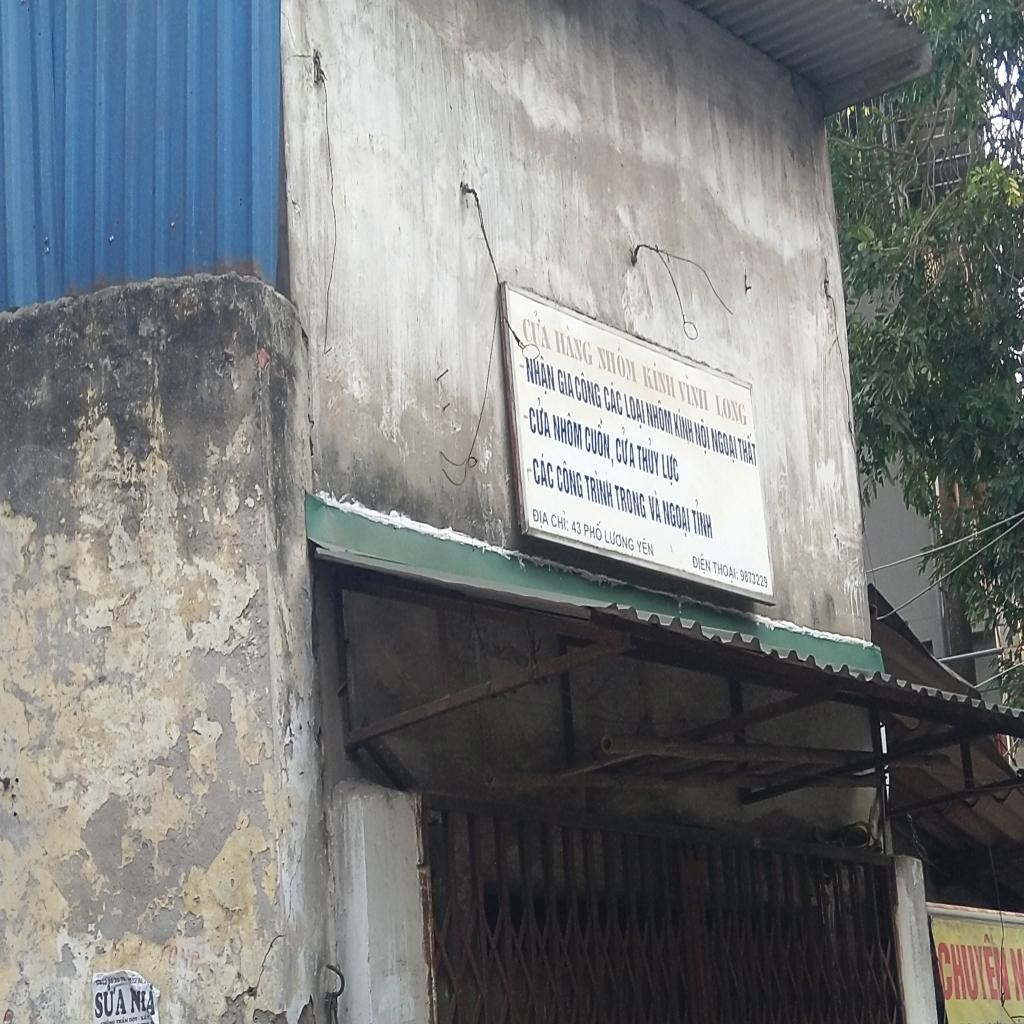text: (934, 931, 1014, 1004), (595, 340, 640, 387), (552, 321, 594, 367), (640, 357, 678, 402), (583, 412, 612, 470), (520, 305, 553, 353), (523, 352, 556, 399), (676, 371, 711, 415), (550, 407, 583, 452), (612, 481, 648, 522), (660, 496, 692, 540), (712, 391, 749, 429), (92, 982, 128, 1020), (554, 458, 585, 501), (573, 368, 603, 412), (644, 394, 674, 438), (584, 468, 614, 512), (710, 424, 740, 466), (526, 395, 553, 441), (688, 496, 715, 542), (635, 434, 661, 481), (614, 424, 636, 472), (530, 451, 555, 492), (672, 405, 696, 447), (129, 982, 157, 1018), (622, 391, 646, 432), (1008, 946, 1024, 1006), (601, 378, 624, 418), (736, 429, 758, 469), (603, 527, 635, 554), (660, 449, 680, 491), (712, 558, 740, 586), (693, 415, 712, 456), (556, 366, 576, 402), (739, 566, 769, 590), (646, 488, 664, 526), (690, 549, 712, 577), (530, 506, 552, 532), (549, 508, 570, 534), (582, 516, 602, 543), (635, 535, 655, 560), (570, 517, 582, 538)
